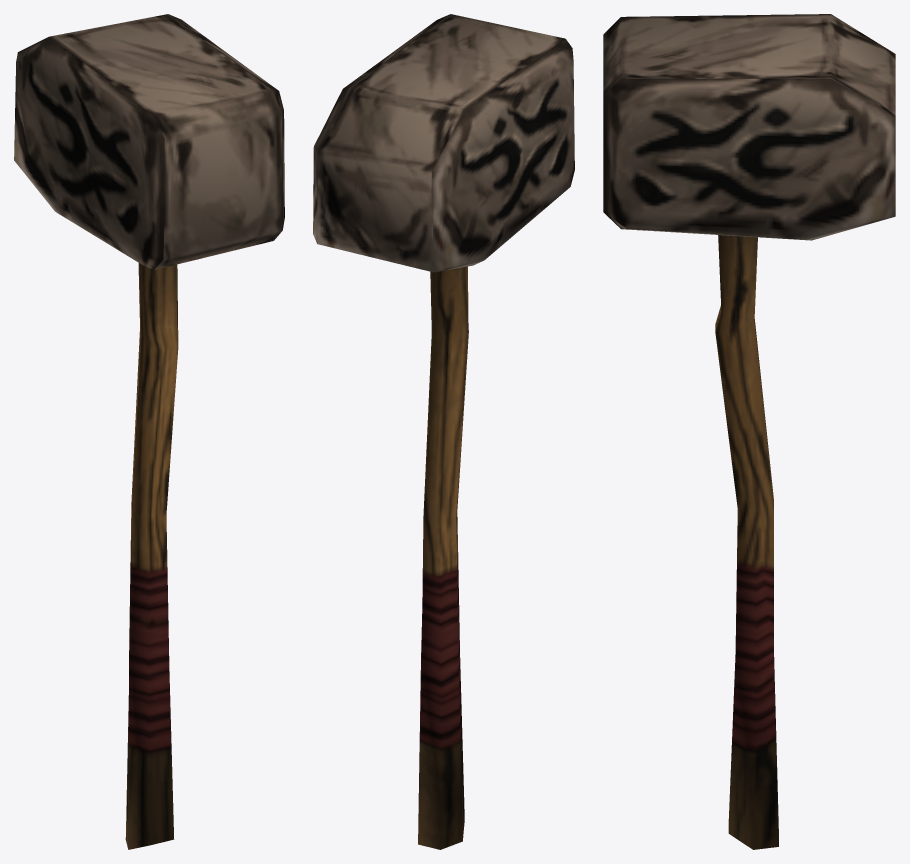
File: WP_2H_GreatMaul02.FBX
3 views of the same model, side by side, from view 1: azimuth 30°, elevation 25°; view 2: azimuth 150°, elevation 25°; view 3: azimuth 270°, elevation 25° (orthographic). The views are drawn at different scales.
Visible parts, largest first — view 1: WP_2H_GreatMaul02; view 2: WP_2H_GreatMaul02; view 3: WP_2H_GreatMaul02.
Part boxes in pixels (x1,y1,x2,y2): WP_2H_GreatMaul02: (14, 14, 284, 849); WP_2H_GreatMaul02: (313, 14, 574, 849); WP_2H_GreatMaul02: (603, 14, 895, 849).
Size of the model in its own units: 28.21 by 149 by 49.59.
